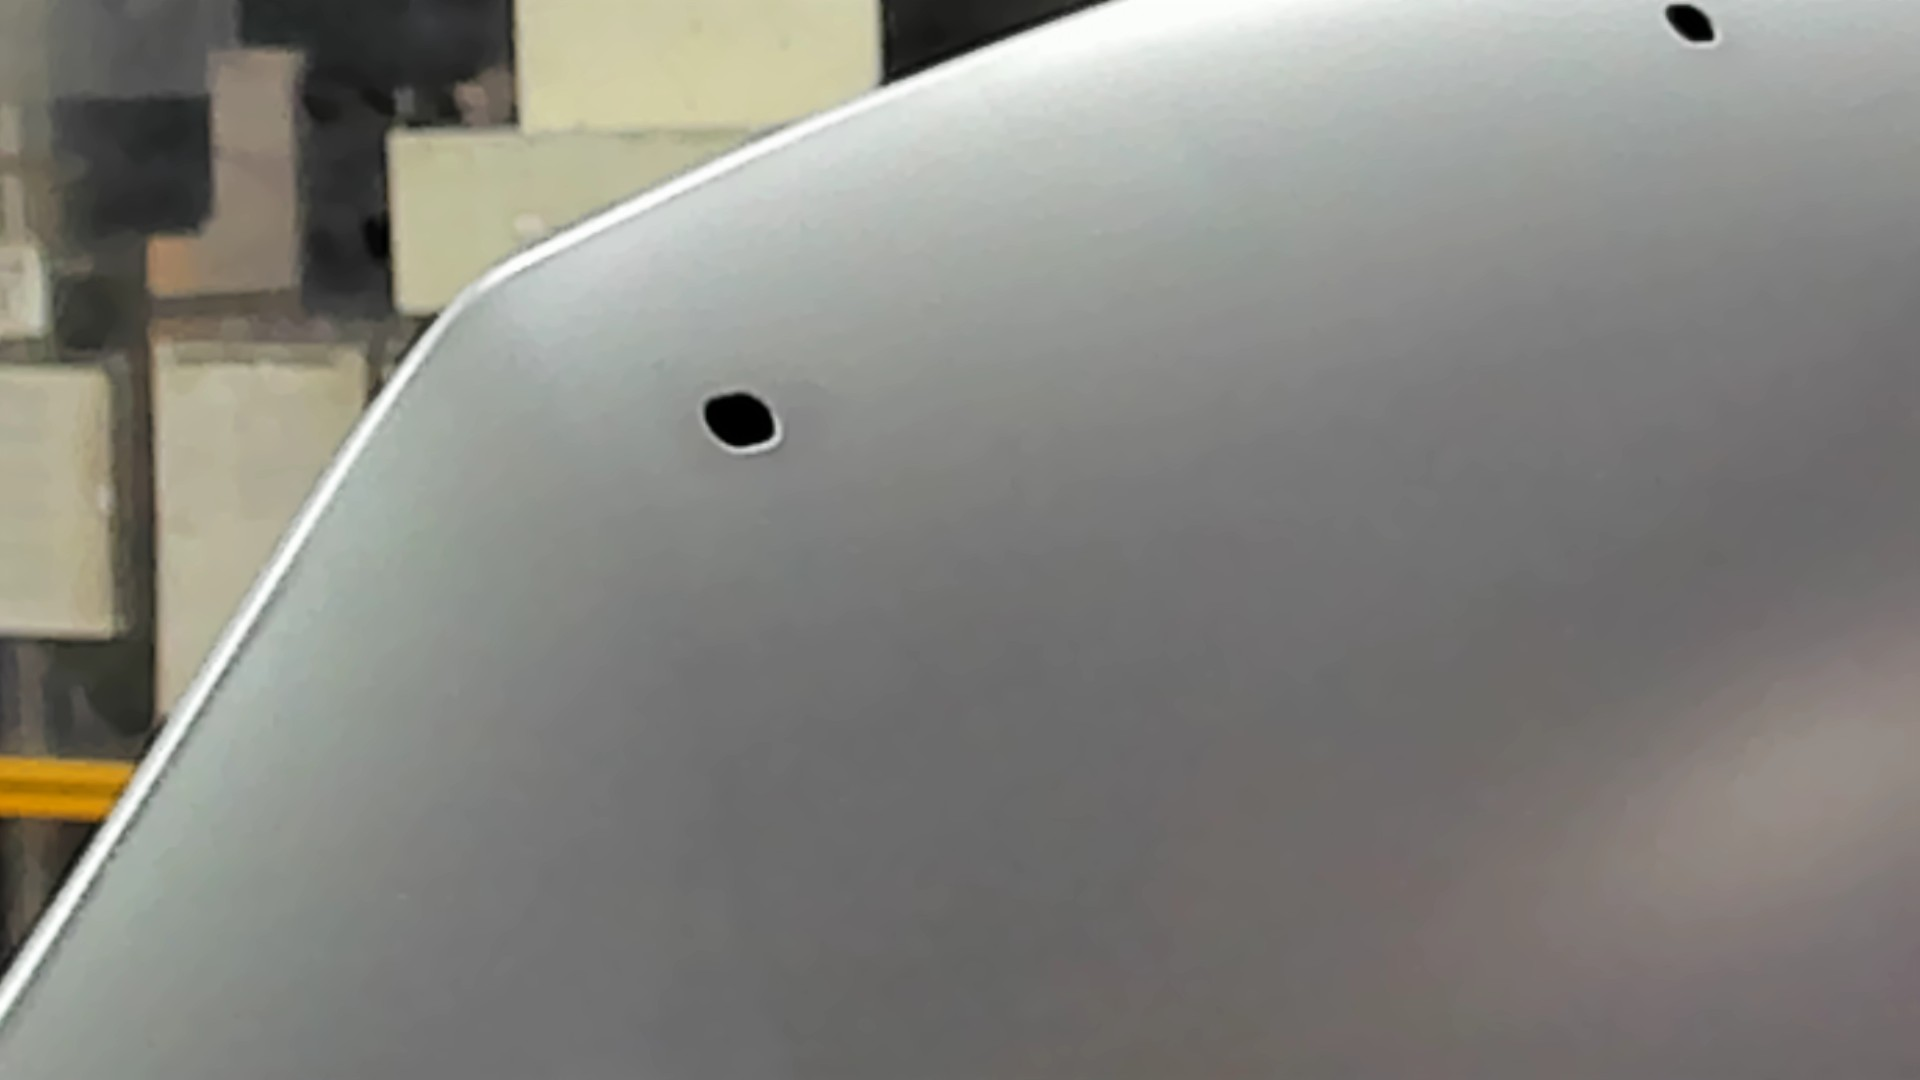amorfo: (688, 381, 796, 462), (1659, 1, 1729, 55)
capo: (890, 131, 1920, 1080)
